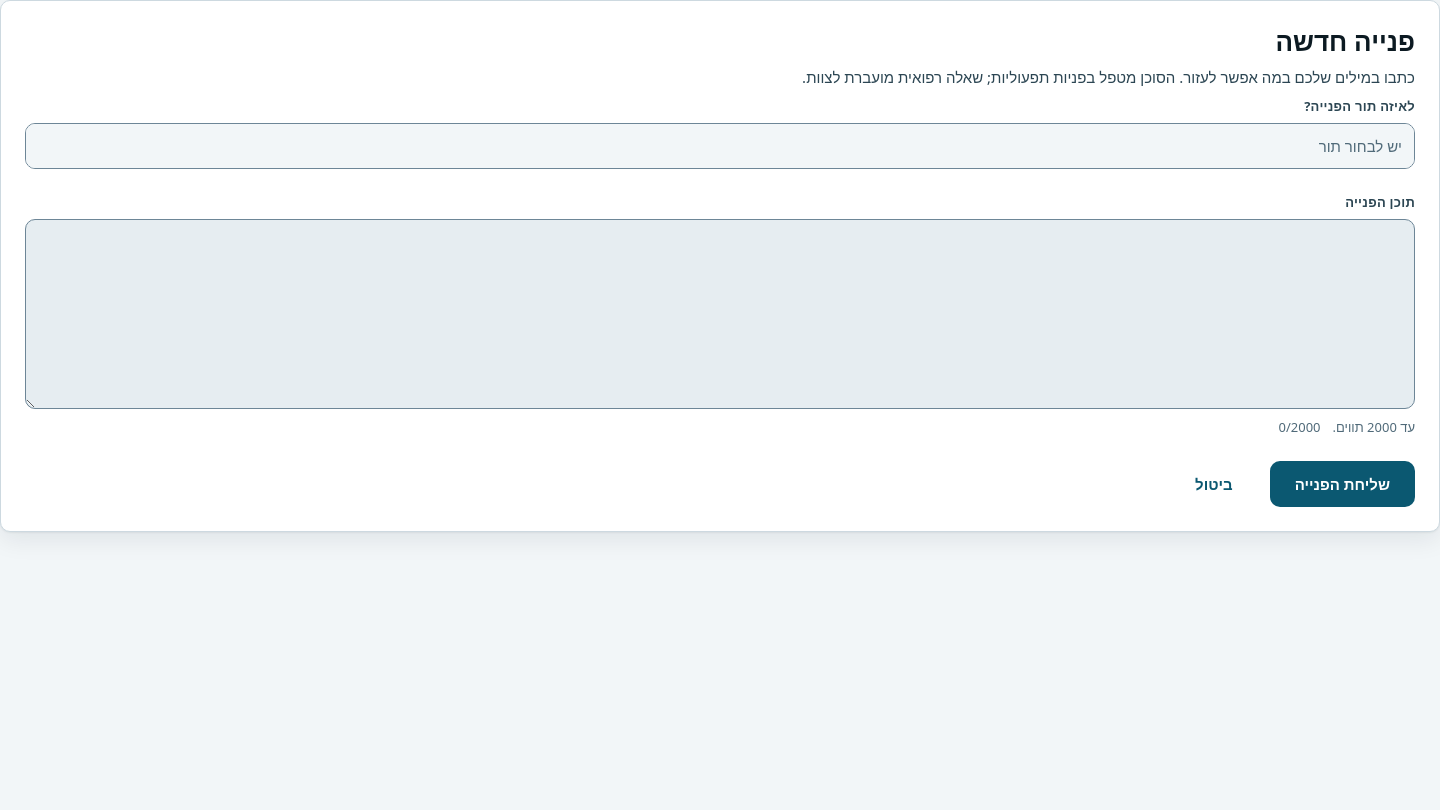
NewRequest: the pre-send check (design D5) › offers to switch when the text names another appointment, and sends nothing yet
Select "ביקור במרפאה נוירולוגית · נוירולוגיה · 3.10.2026 בשעה 10:30" in the dropdown labelled "לאיזה תור הפנייה?" at (720, 146), box left=26, top=124, right=1414, bottom=168
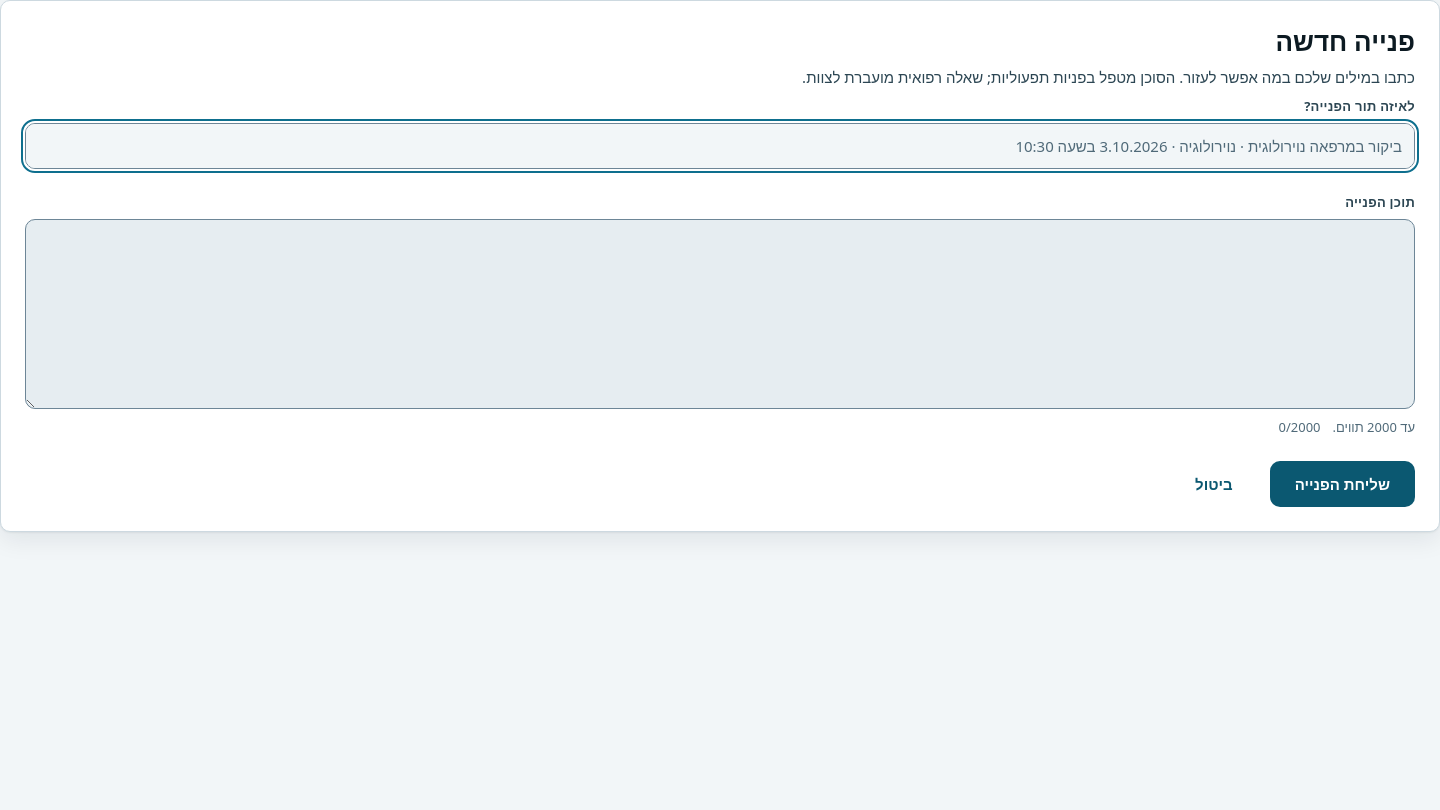
Type "מה ההכנה למבחן מאמץ ב-7/10?" into the text box labelled "תוכן הפנייה" at (720, 314), box left=26, top=220, right=1414, bottom=408
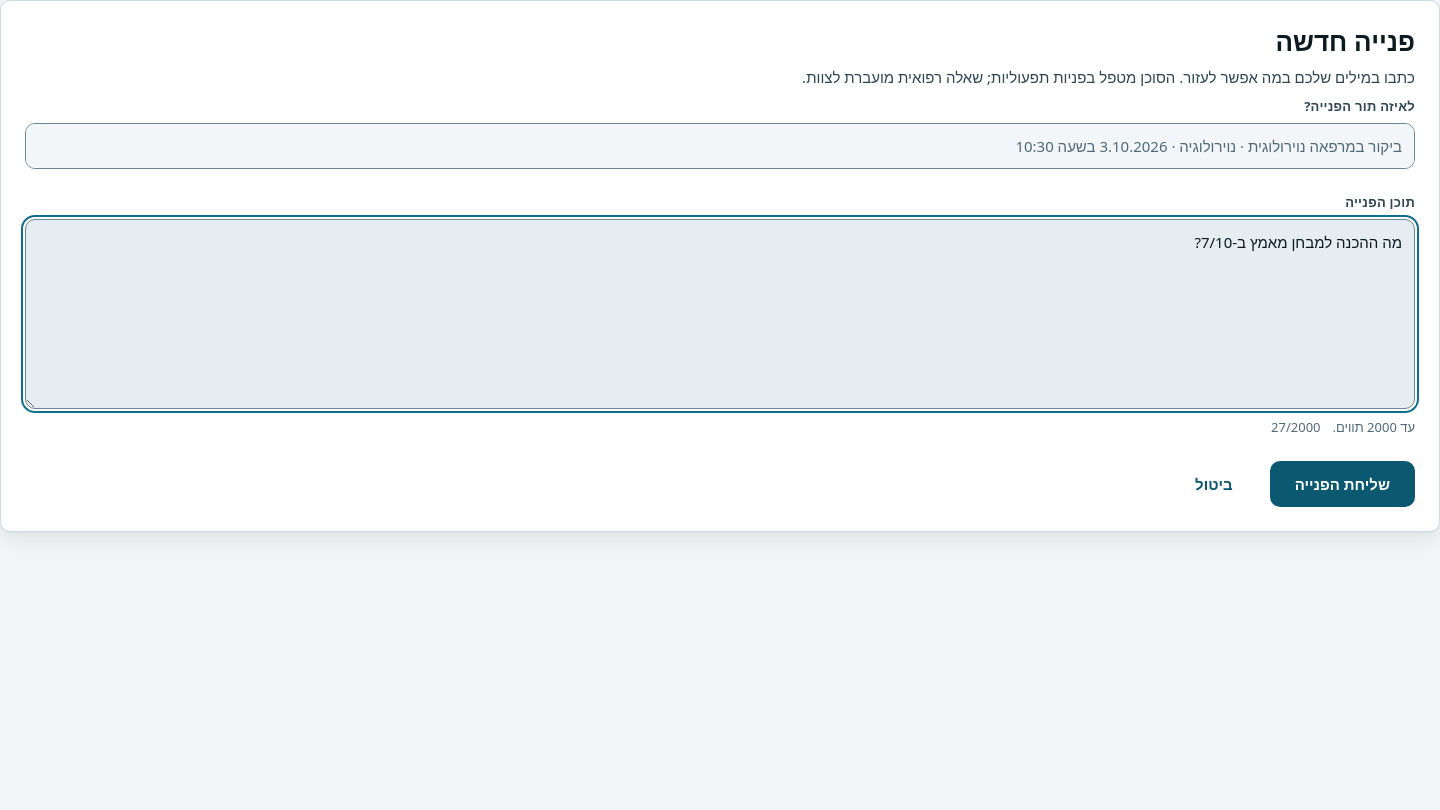
Click the button "שליחת הפנייה" at (1342, 484), box left=1270, top=461, right=1415, bottom=507
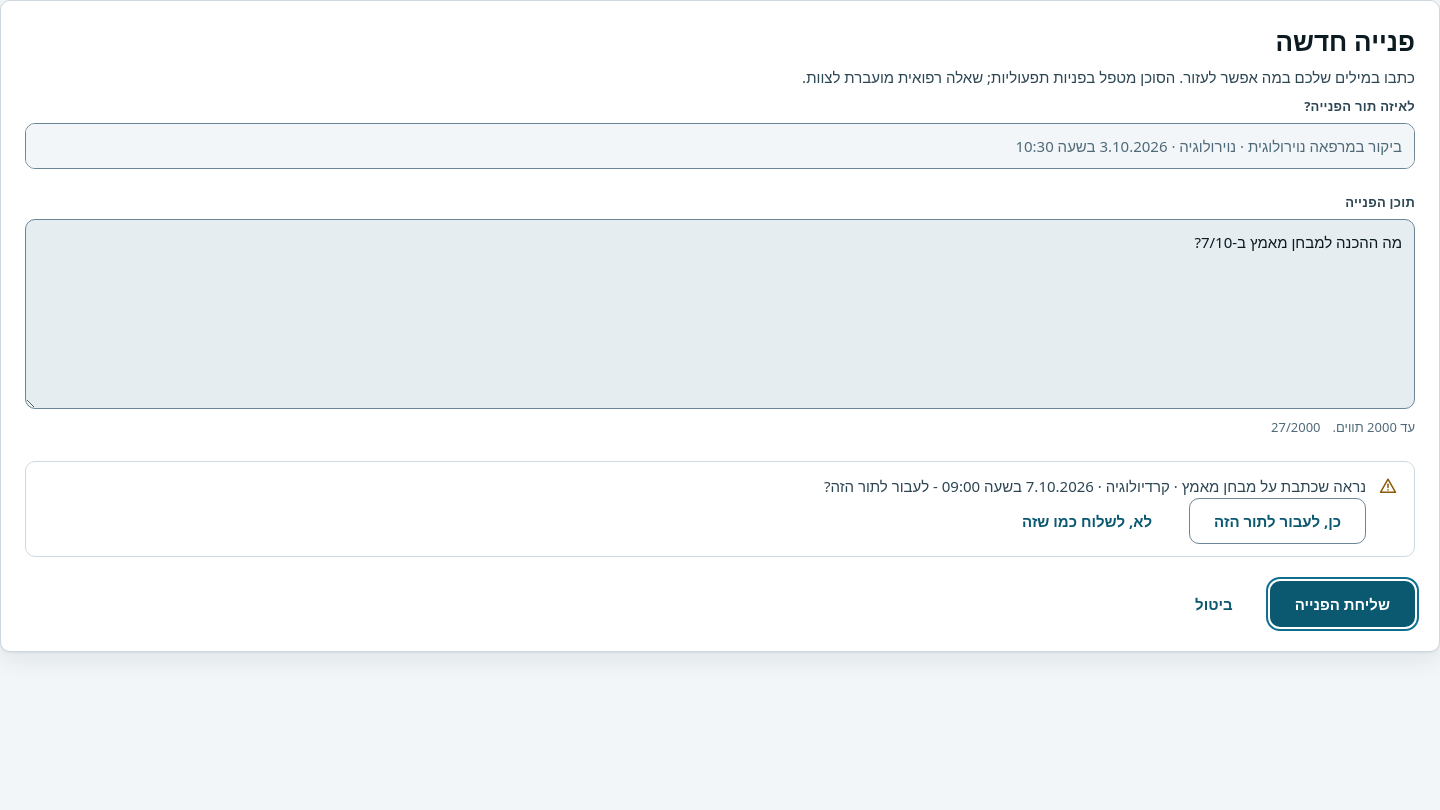
Expected: the text "נראה שכתבת על מבחן מאמץ · קרדיולוגיה · 7.10.2026 בשעה 09:00 - לעבור לתור הזה?" is shown, left=824, top=474, right=1366, bottom=498
